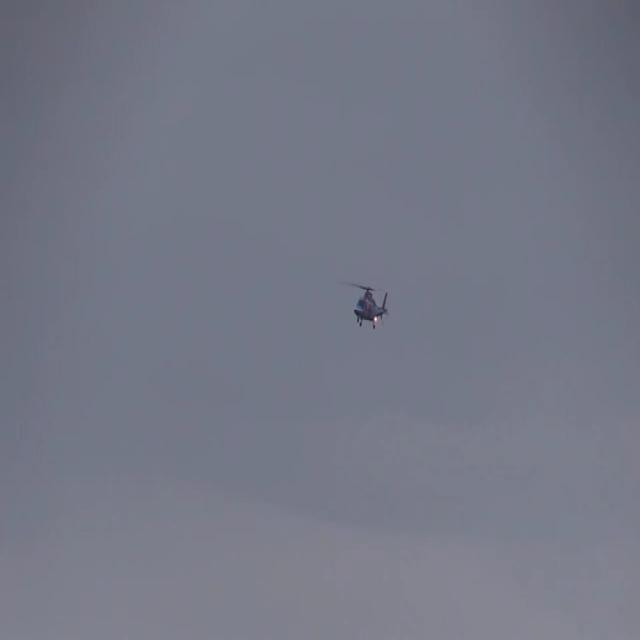Helicopter: (322, 269, 408, 339)
